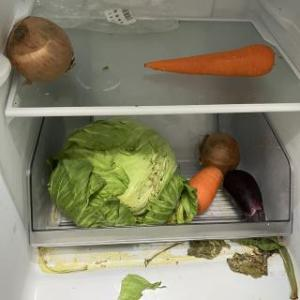cabbage: (45, 118, 199, 235)
carrot: (143, 43, 277, 79), (184, 166, 224, 216)
eggplant: (219, 168, 269, 226)
onion: (5, 17, 76, 88), (196, 131, 242, 173)
